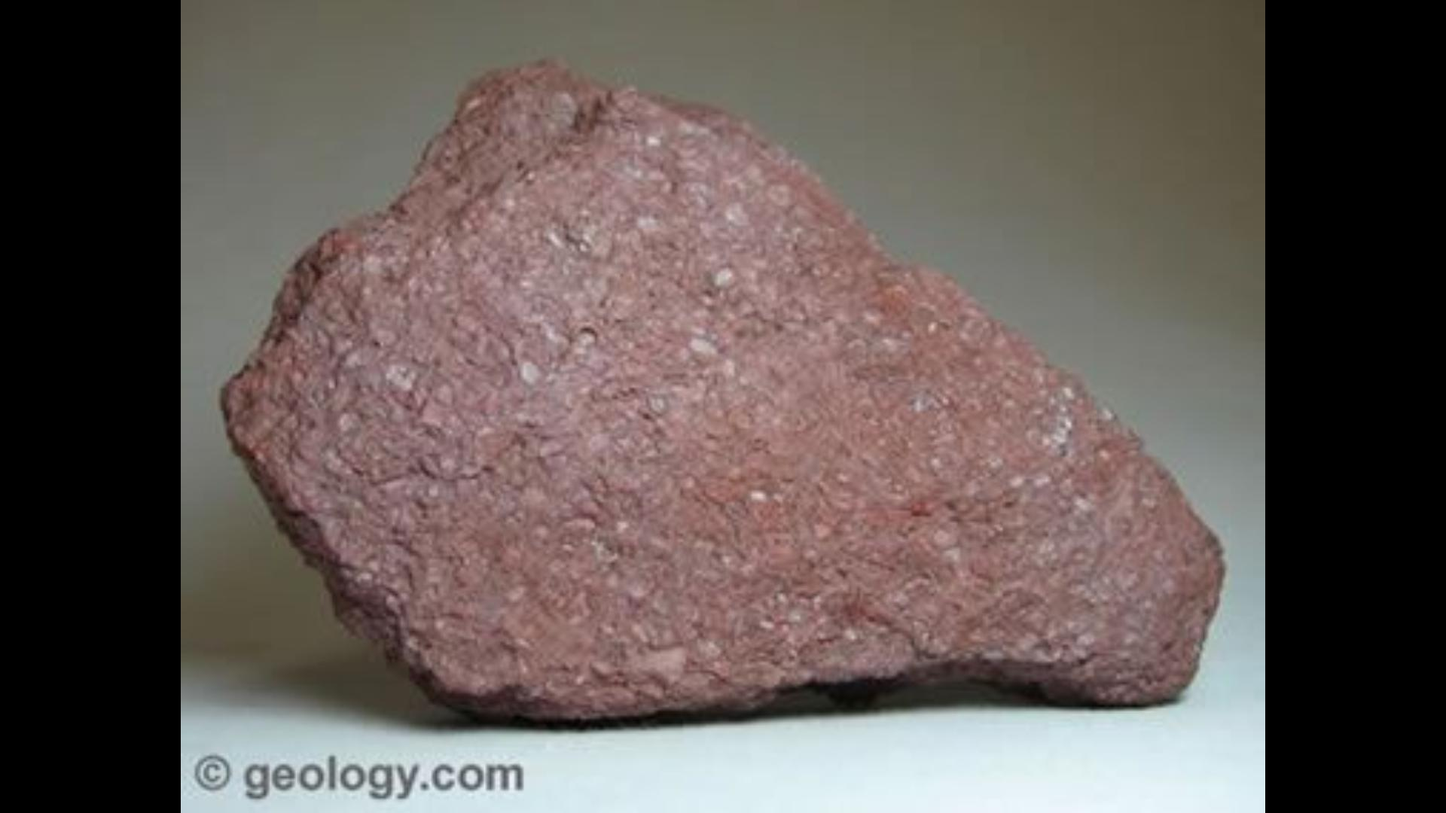rock: (224, 63, 1217, 713)
